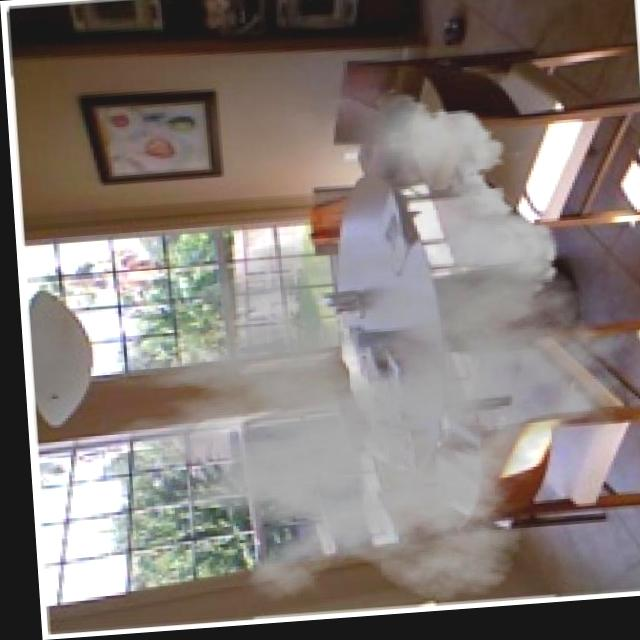Smoke: (63, 79, 640, 628)
